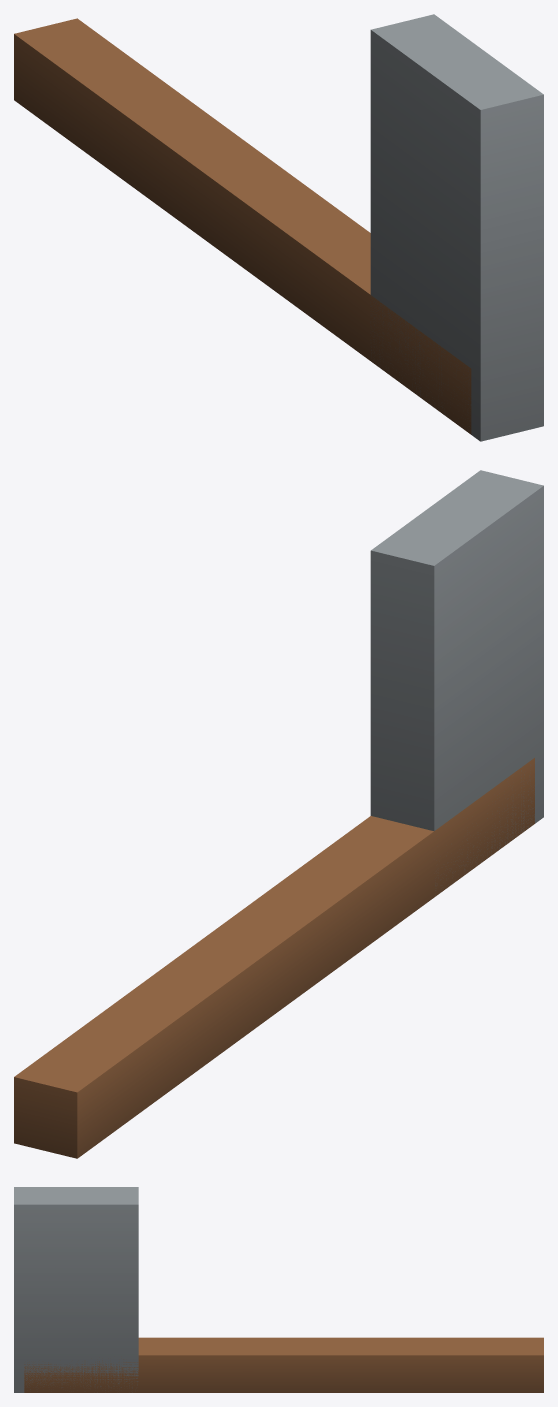
The model's file is axe.glb.
3 renders of one model, top to bottom at view 1: azimuth 30°, elevation 25°; view 2: azimuth 150°, elevation 25°; view 3: azimuth 270°, elevation 25°, orthographic. The views are drawn at different scales.
Parts seen in each view (by area): view 1: axe; view 2: axe; view 3: axe.
Part boxes in pixels (x1,y1,x2,y2): axe: [14, 14, 543, 441]; axe: [14, 470, 543, 1158]; axe: [14, 1187, 543, 1392].
Bounding box in the file's own units: 0.04 × 0.2 × 0.51.
Materials: 1 (1 with a texture image).
